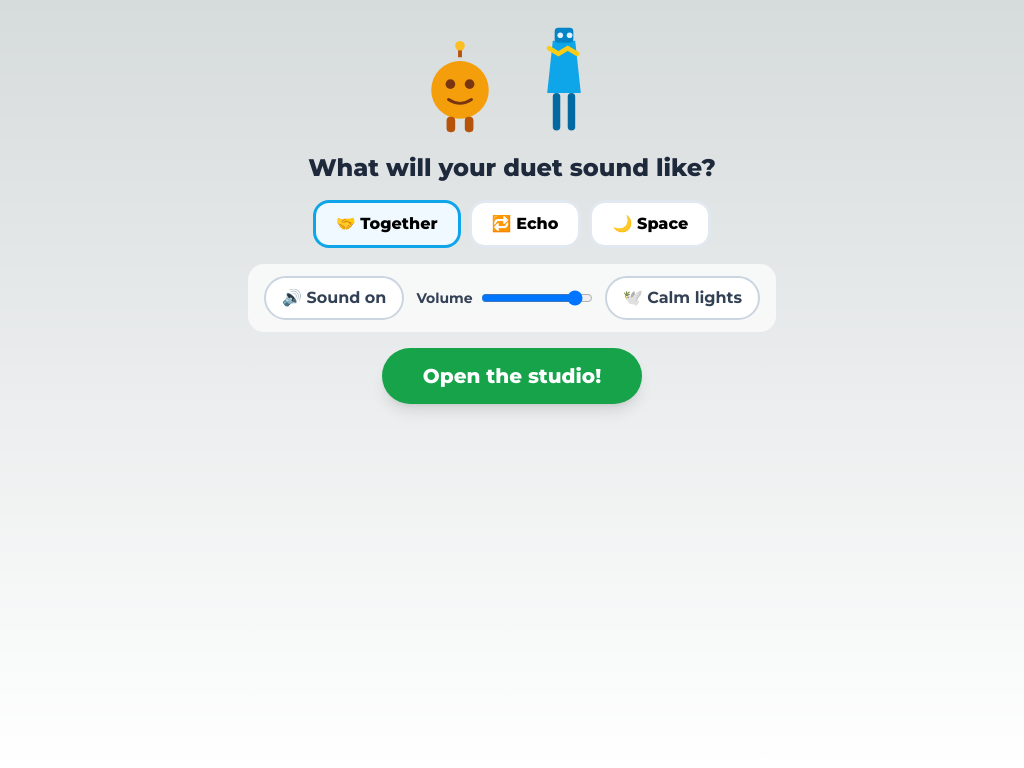
Test: EchoStudioCore — pre-warm sequencing › K-2 studio opens with the starter pulse seeded (the canvas is never blank)
Click the button "Open the studio!".
click(512, 376)  # box [382, 348, 642, 404]
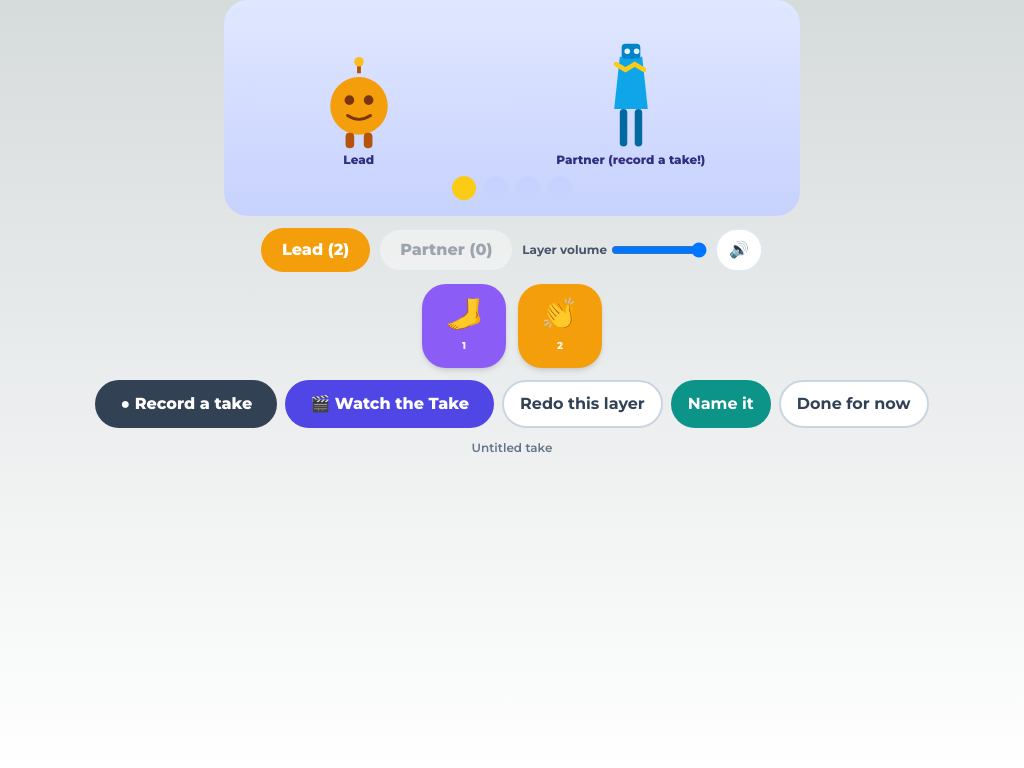
Now the button "Lead (2)" is shown, box [261, 228, 370, 272]
